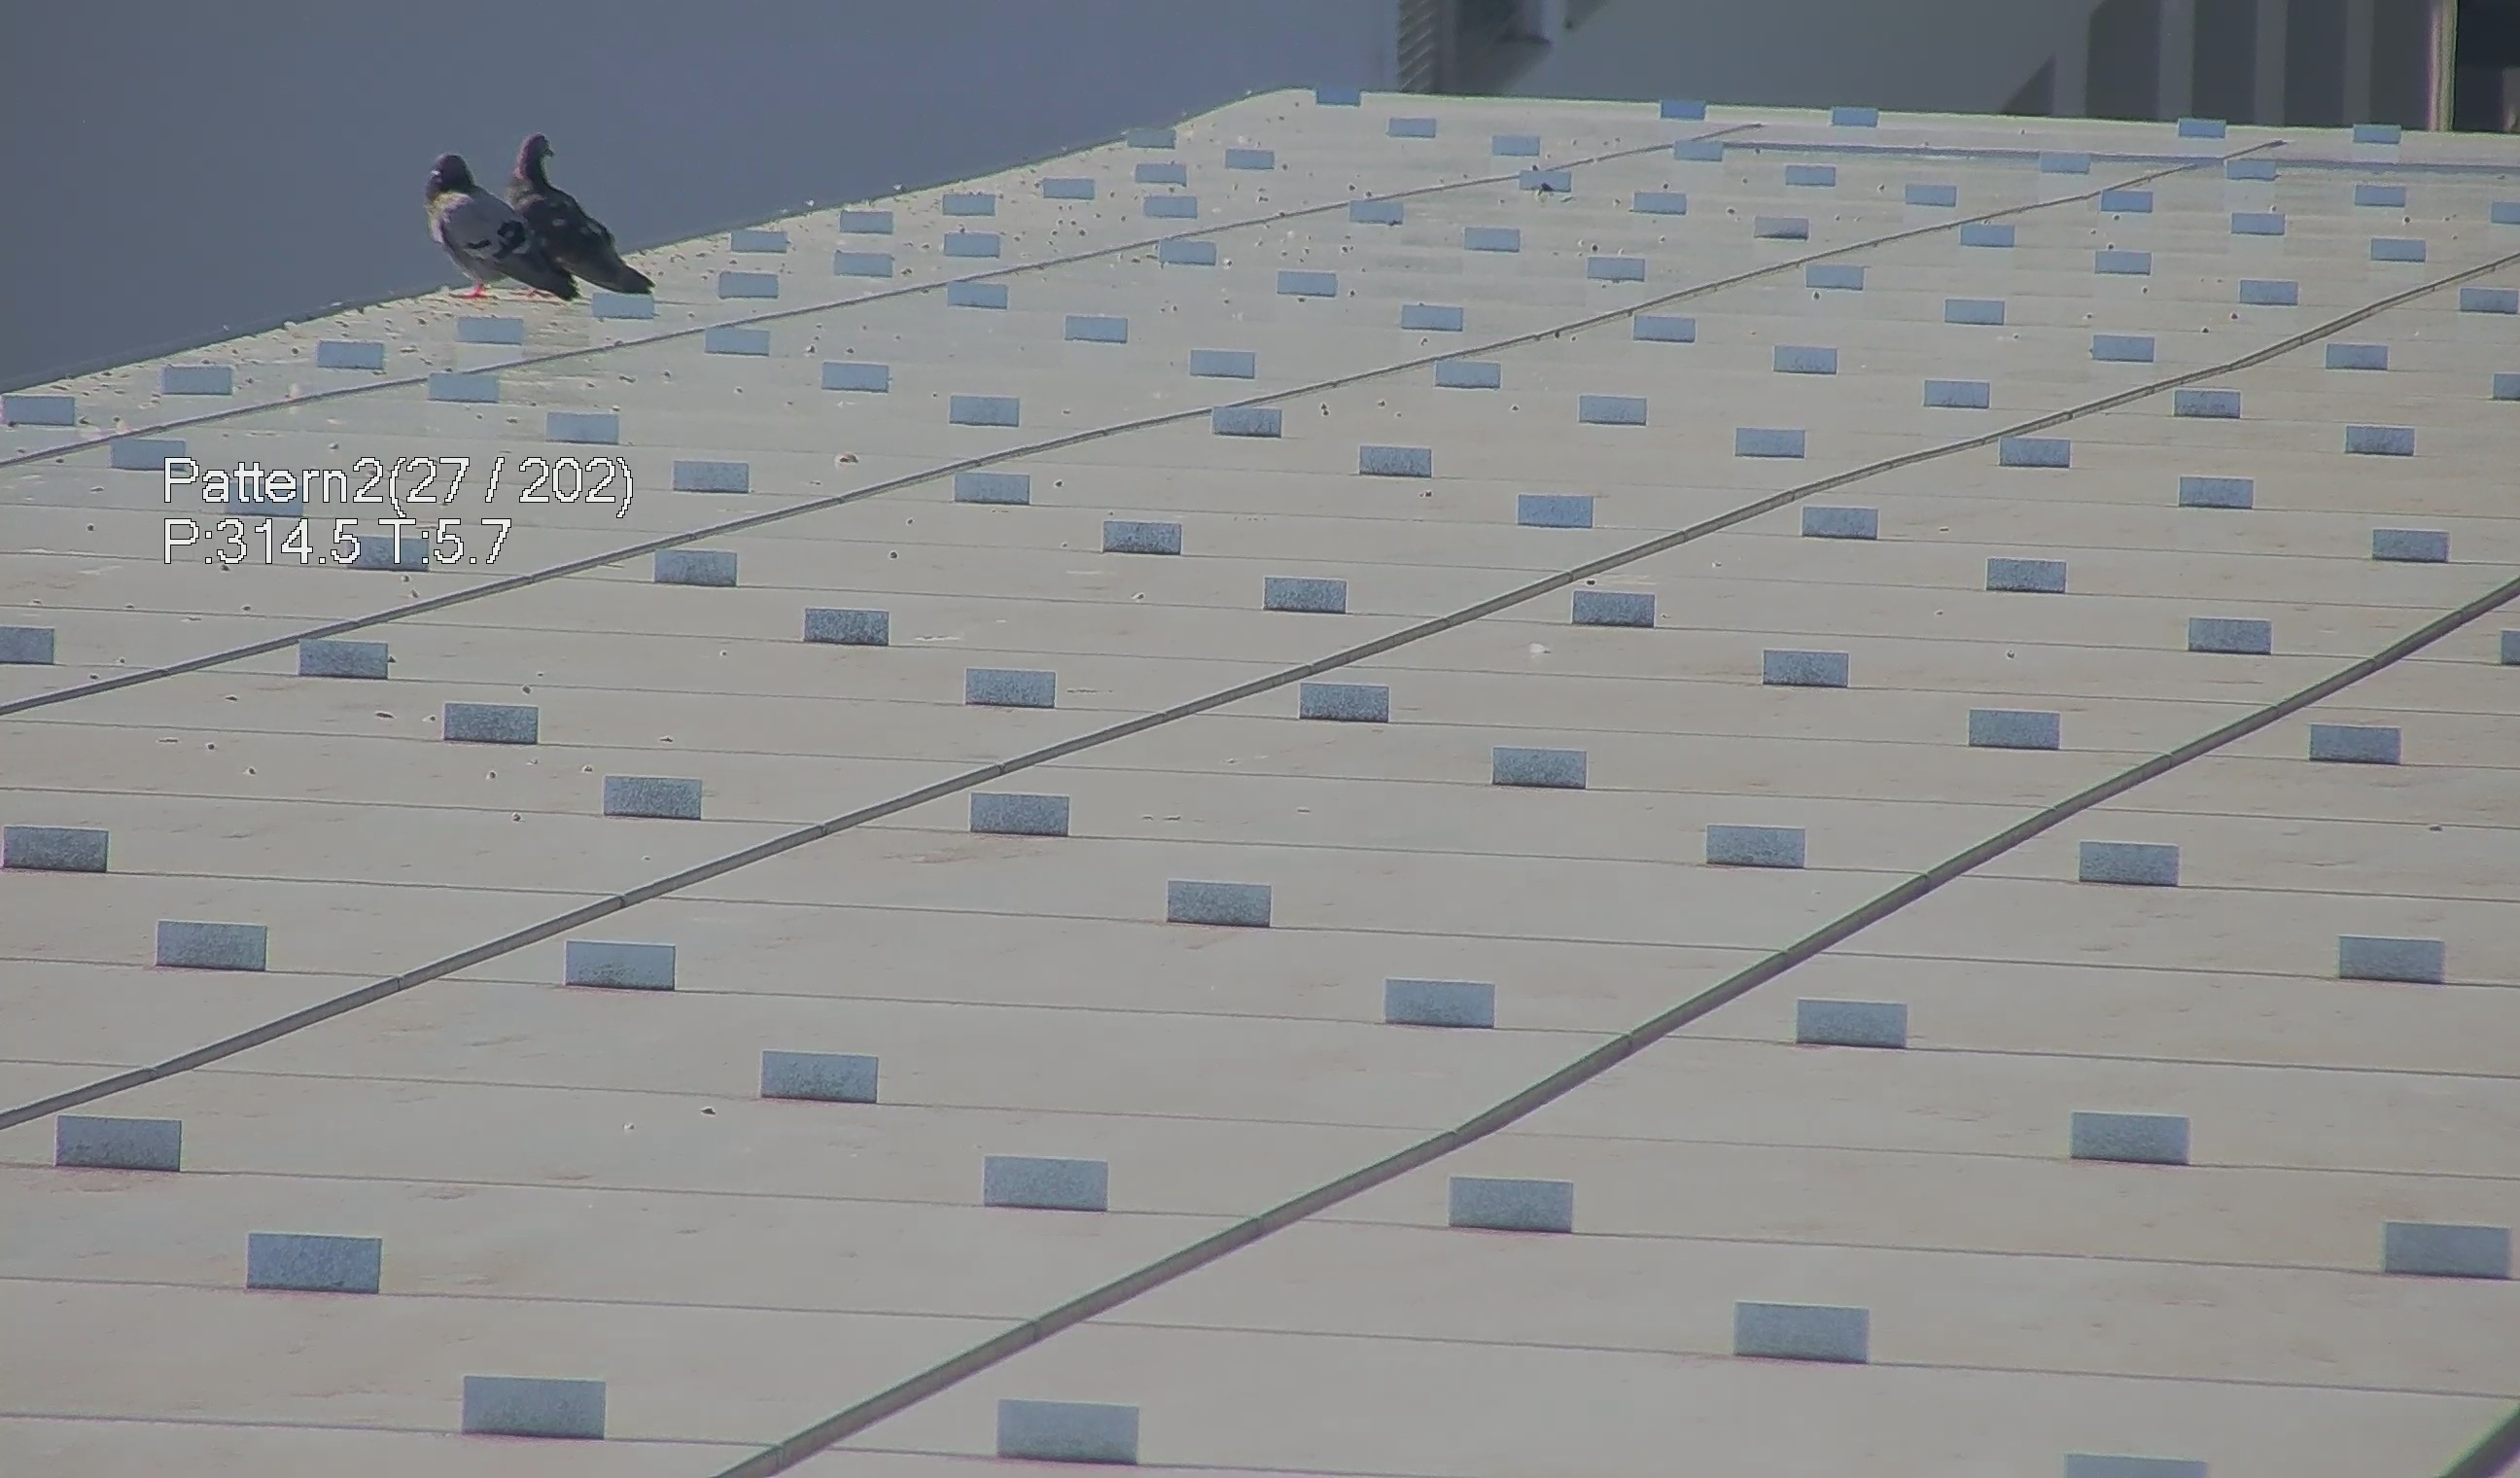Pigeon: (485, 127, 642, 303), (396, 135, 540, 296)
